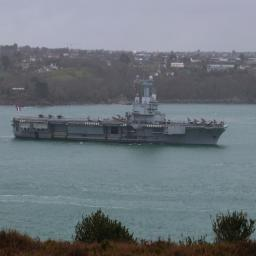Portanaves: (10, 61, 231, 148)
